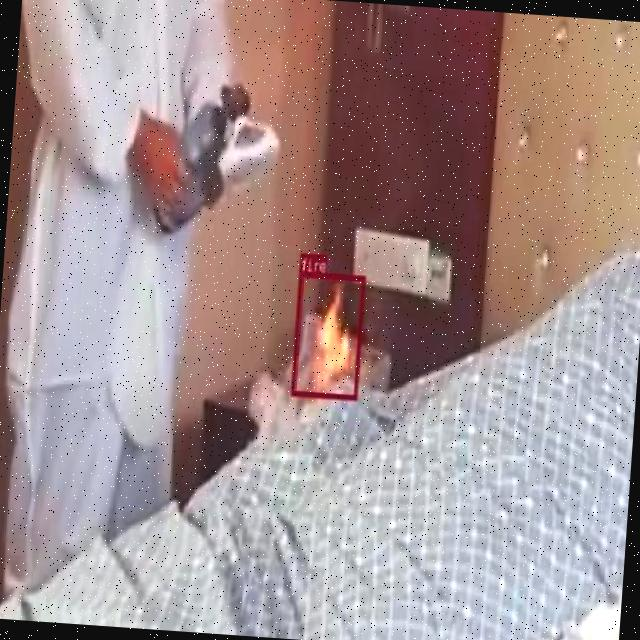fire: (290, 270, 365, 399)
